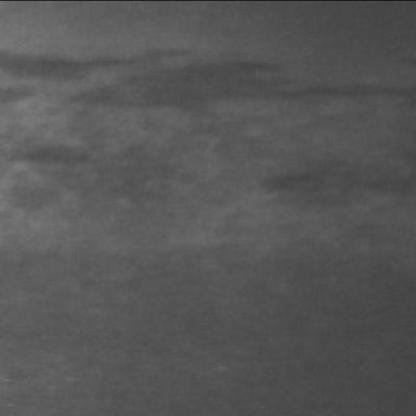inclusion: (6, 48, 416, 119), (6, 131, 169, 221), (258, 154, 416, 214)
